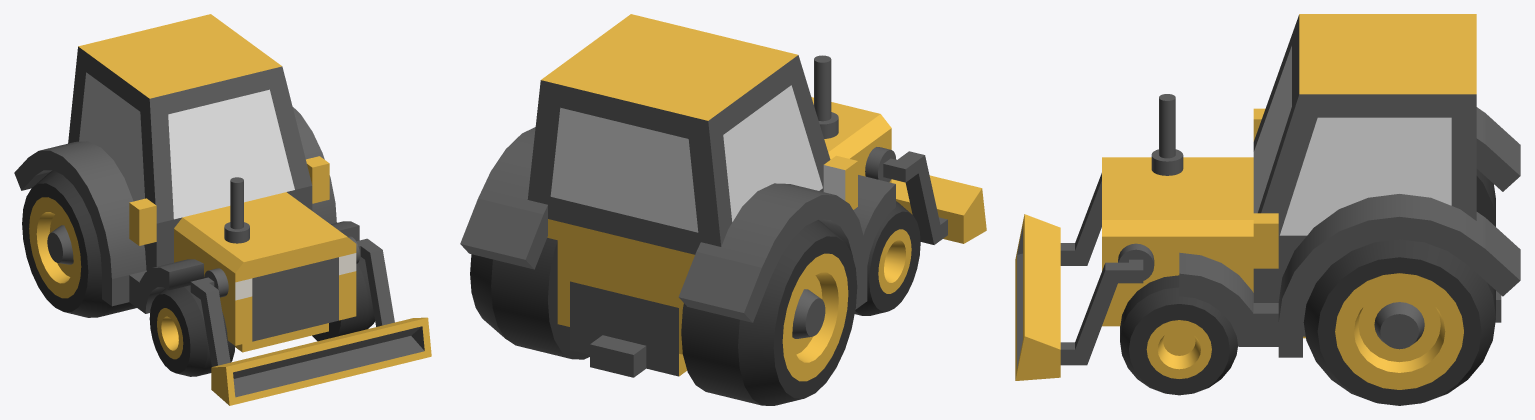
Rendered from tractorShovel.dae.
The picture shows the model from 3 angles, left to right: view 1: azimuth 30°, elevation 25°; view 2: azimuth 150°, elevation 25°; view 3: azimuth 270°, elevation 25°; orthographic projection. The views are drawn at different scales.
Parts seen in each view (by area): view 1: body, shovel, skirts, wheel_backLeft, wheel_frontLeft, wheel_frontRight; view 2: body, skirts, wheel_backLeft, wheel_backRight, shovel, wheel_frontLeft; view 3: body, wheel_backRight, skirts, shovel, wheel_frontRight, wheel_backLeft.
Boxes of the visible parts, x1=… form: body: x1=68, y1=14, x2=356, y2=352; shovel: x1=190, y1=236, x2=431, y2=405; skirts: x1=14, y1=107, x2=359, y2=313; wheel_backLeft: x1=22, y1=170, x2=136, y2=317; wheel_frontLeft: x1=149, y1=285, x2=235, y2=376; wheel_frontRight: x1=312, y1=256, x2=374, y2=341; body: x1=527, y1=14, x2=891, y2=377; skirts: x1=460, y1=127, x2=895, y2=322; wheel_backLeft: x1=681, y1=220, x2=857, y2=405; wheel_backRight: x1=470, y1=237, x2=589, y2=359; shovel: x1=865, y1=147, x2=986, y2=244; wheel_frontLeft: x1=854, y1=201, x2=920, y2=315; body: x1=1102, y1=14, x2=1501, y2=338; wheel_backRight: x1=1303, y1=239, x2=1495, y2=405; skirts: x1=1179, y1=107, x2=1520, y2=357; shovel: x1=1015, y1=173, x2=1154, y2=380; wheel_frontRight: x1=1120, y1=275, x2=1237, y2=395; wheel_backLeft: x1=1476, y1=169, x2=1495, y2=226.
Size of the model in its own units: 1.17 by 1.1 by 1.72.
